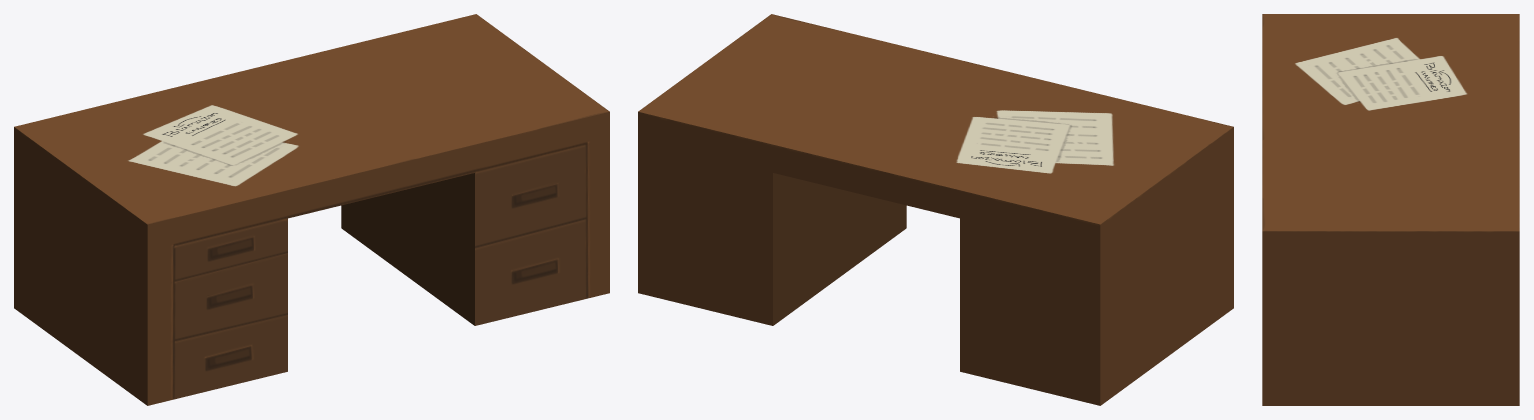
Rendered from desk.fbx.
3 views of the same model, side by side, from view 1: azimuth 30°, elevation 25°; view 2: azimuth 150°, elevation 25°; view 3: azimuth 270°, elevation 25° (orthographic). The views are drawn at different scales.
Visible parts, largest first — view 1: Box001; view 2: Box001; view 3: Box001.
Boxes of the visible parts, bbox=[...] form: Box001: bbox=[14, 14, 609, 405]; Box001: bbox=[638, 14, 1233, 405]; Box001: bbox=[1262, 14, 1519, 405].
Bounding box in the file's own units: 4 × 1.5 × 2.
